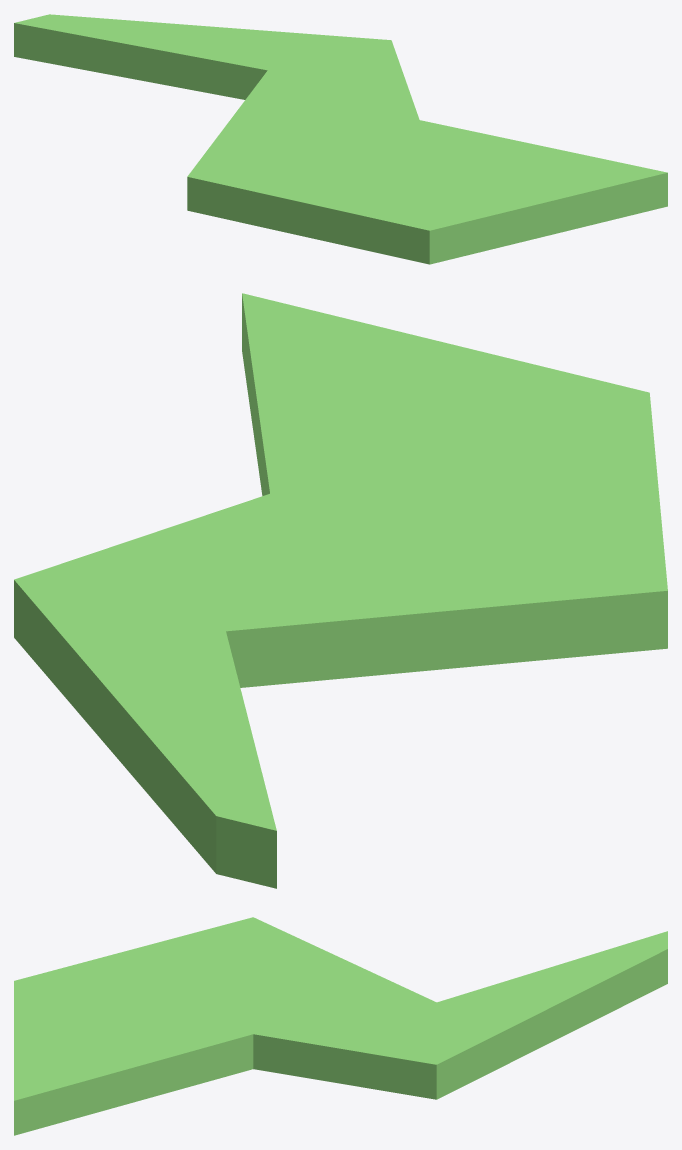
File: ThunderShot.fbx
The picture shows the model from 3 angles, top to bottom: view 1: azimuth 30°, elevation 25°; view 2: azimuth 150°, elevation 25°; view 3: azimuth 270°, elevation 25°; orthographic projection. The views are drawn at different scales.
Parts seen in each view (by area): view 1: Cube; view 2: Cube; view 3: Cube.
Boxes of the visible parts, <box> form: Cube: <box>14,14,667,264</box>; Cube: <box>14,293,667,888</box>; Cube: <box>14,917,667,1135</box>.
Size of the model in its own units: 90.65 by 8.04 by 136.
